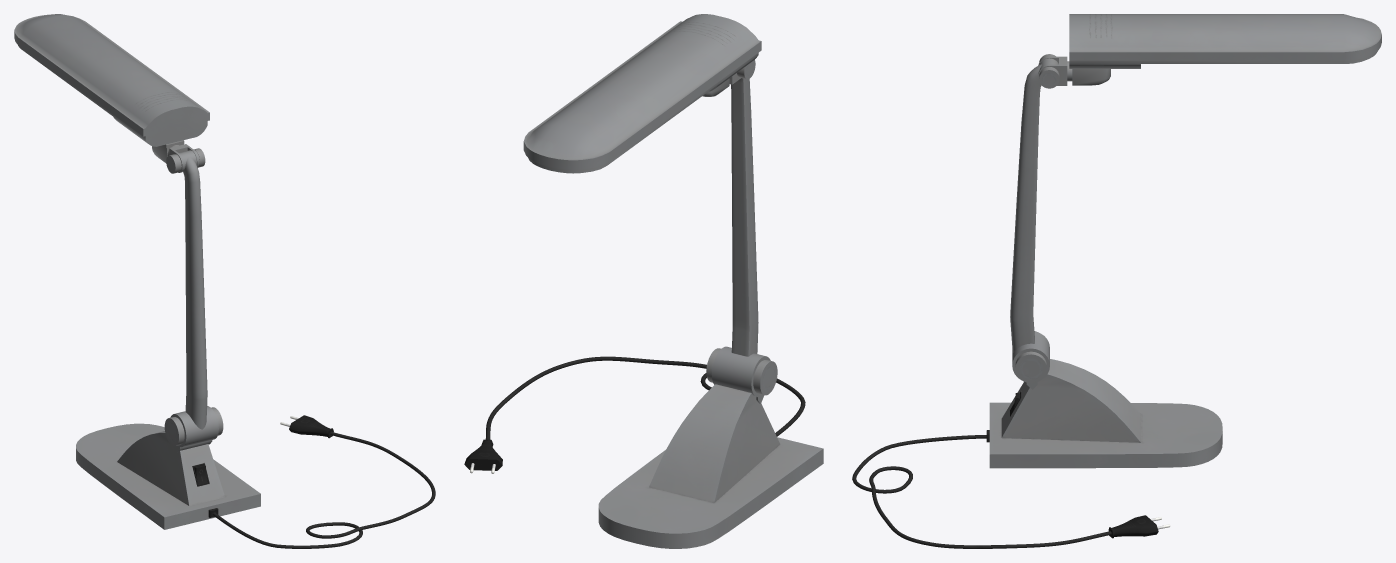
The picture shows the model from 3 angles, left to right: view 1: azimuth 30°, elevation 25°; view 2: azimuth 150°, elevation 25°; view 3: azimuth 270°, elevation 25°; orthographic projection. The views are drawn at different scales.
Parts seen in each view (by area): view 1: object 11, object 15, object 24, object 16, object 13, object 2, object 12; view 2: object 11, object 15, object 16, object 24, object 13, object 2, object 12, decor_low; view 3: object 11, object 15, object 16, object 24, object 13, decor_001_low, object 12, object 2.
Boxes of the visible parts, left/top/right/bottom form: object 11: left=14, top=14, right=209, bottom=146; object 15: left=76, top=423, right=260, bottom=529; object 24: left=183, top=157, right=207, bottom=429; object 16: left=117, top=431, right=224, bottom=505; object 13: left=212, top=432, right=435, bottom=548; object 2: left=170, top=406, right=218, bottom=447; object 12: left=289, top=415, right=333, bottom=438; object 11: left=523, top=14, right=761, bottom=173; object 15: left=598, top=437, right=823, bottom=548; object 16: left=649, top=384, right=780, bottom=503; object 24: left=731, top=78, right=758, bottom=356; object 13: left=485, top=356, right=805, bottom=439; object 2: left=711, top=346, right=770, bottom=396; object 12: left=464, top=439, right=502, bottom=470; decor_low: left=753, top=360, right=777, bottom=395; object 11: left=1069, top=14, right=1381, bottom=68; object 15: left=989, top=402, right=1222, bottom=468; object 16: left=1001, top=359, right=1140, bottom=442; object 24: left=1010, top=64, right=1041, bottom=352; object 13: left=852, top=435, right=1111, bottom=548; decor_001_low: left=1015, top=351, right=1046, bottom=383; object 12: left=1108, top=515, right=1158, bottom=538; object 2: left=1012, top=331, right=1049, bottom=380.
Bounding box in the file's own units: 31.05 × 45.79 × 51.82.
Materials: 1 (1 with a texture image).
